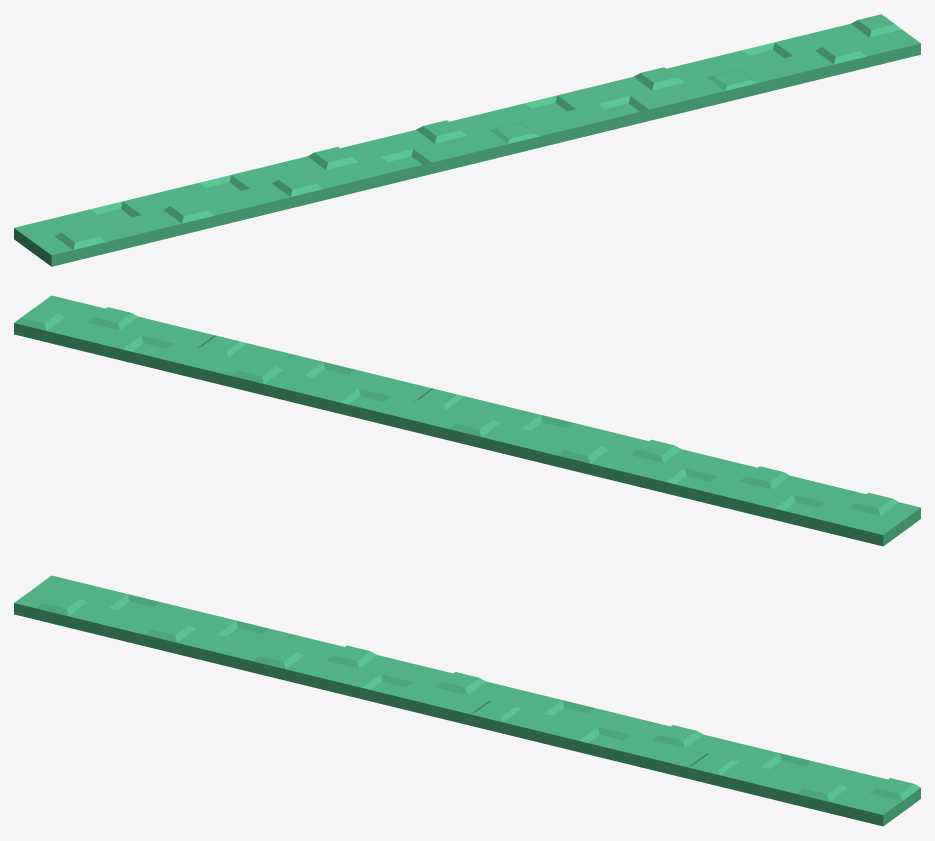
File: gm_suspension_03.dae
3 views of the same model, one above another, from view 1: azimuth 30°, elevation 25°; view 2: azimuth 150°, elevation 25°; view 3: azimuth 330°, elevation 25° (orthographic).
Visible parts, largest first — view 1: Colmesh-1; view 2: Colmesh-1; view 3: Colmesh-1.
Part boxes in pixels (x1,y1,x2,y2): Colmesh-1: [14, 14, 920, 266]; Colmesh-1: [14, 295, 920, 546]; Colmesh-1: [14, 575, 920, 826].
Size of the model in its own units: 40 by 3 by 0.7.
